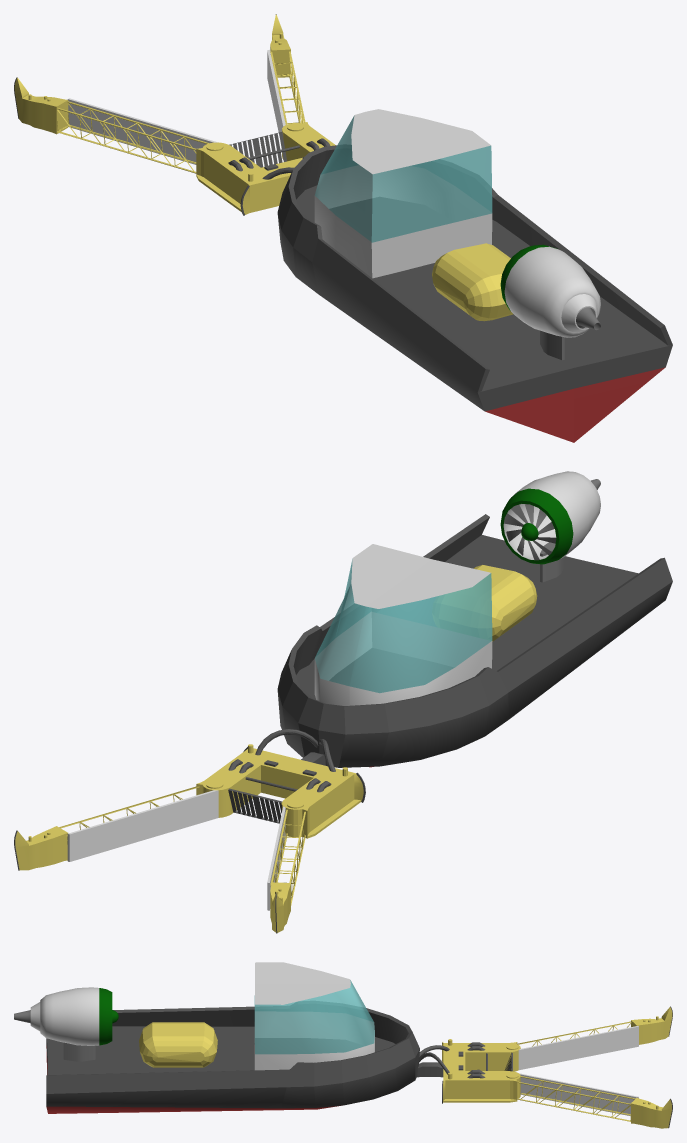
File: FastScraper.fbx
The picture shows the model from 3 angles, top to bottom: view 1: azimuth 30°, elevation 25°; view 2: azimuth 150°, elevation 25°; view 3: azimuth 270°, elevation 25°; orthographic projection. The views are drawn at different scales.
Parts seen in each view (by area): view 1: polySurface204, polySurface206; view 2: polySurface204, polySurface206; view 3: polySurface204, polySurface206.
Boxes of the visible parts, box(x1,y1,x2,y2) form: polySurface204: box(14, 14, 672, 442); polySurface206: box(500, 244, 600, 360); polySurface204: box(14, 514, 672, 933); polySurface206: box(500, 471, 600, 582); polySurface204: box(46, 962, 672, 1128); polySurface206: box(14, 987, 118, 1061).
Bounding box in the file's own units: 44.06 × 28.74 × 132.
